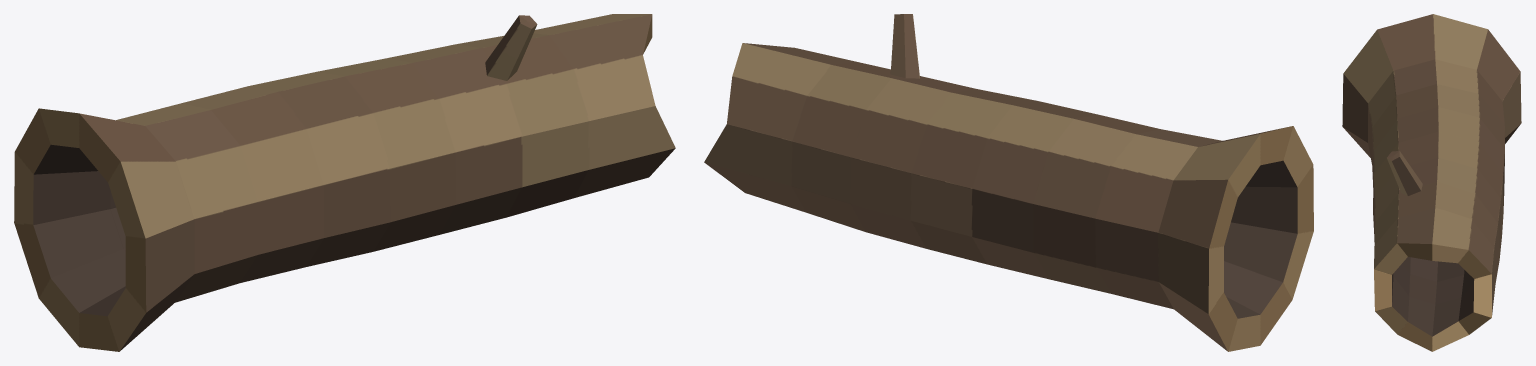
File: SM_Log_Hollow.glb
The picture shows the model from 3 angles, left to right: view 1: azimuth 30°, elevation 25°; view 2: azimuth 150°, elevation 25°; view 3: azimuth 270°, elevation 25°; orthographic projection. The views are drawn at different scales.
Parts seen in each view (by area): view 1: SM_Log_Hollow; view 2: SM_Log_Hollow; view 3: SM_Log_Hollow.
Part boxes in pixels (box(x1,y1,x2,y2)): SM_Log_Hollow: box(14, 14, 675, 351); SM_Log_Hollow: box(704, 14, 1313, 351); SM_Log_Hollow: box(1342, 14, 1521, 351).
Size of the model in its own units: 2.78 by 1.14 by 1.04.
1 material, 1 textured.
